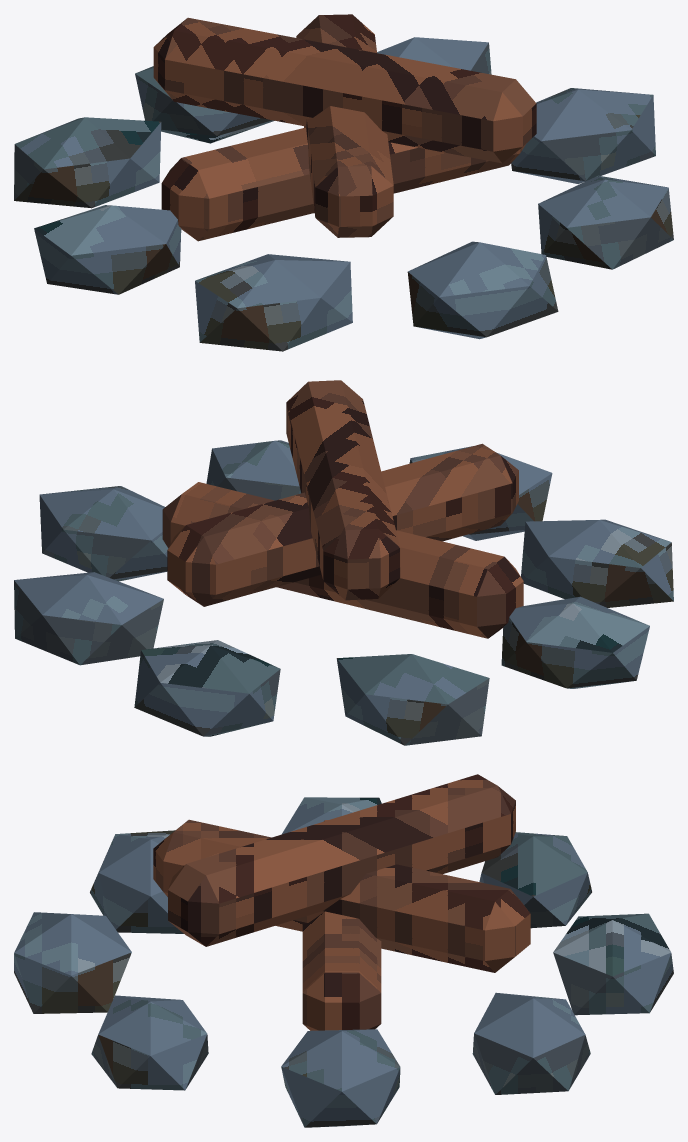
Rendered from enfeite_fogueira.glb.
The picture shows the model from 3 angles, top to bottom: view 1: azimuth 30°, elevation 25°; view 2: azimuth 150°, elevation 25°; view 3: azimuth 270°, elevation 25°; orthographic projection. The views are drawn at different scales.
Visible parts, largest first — view 1: pedreira_enfeite_fogueira; view 2: pedreira_enfeite_fogueira; view 3: pedreira_enfeite_fogueira.
Part boxes in pixels (box(x1,y1,x2,y2)): pedreira_enfeite_fogueira: box(14, 14, 673, 351); pedreira_enfeite_fogueira: box(14, 380, 673, 745); pedreira_enfeite_fogueira: box(14, 774, 673, 1127).
Bounding box in the file's own units: 0.624 × 0.1841 × 0.5853.
2 materials, 2 textured.
